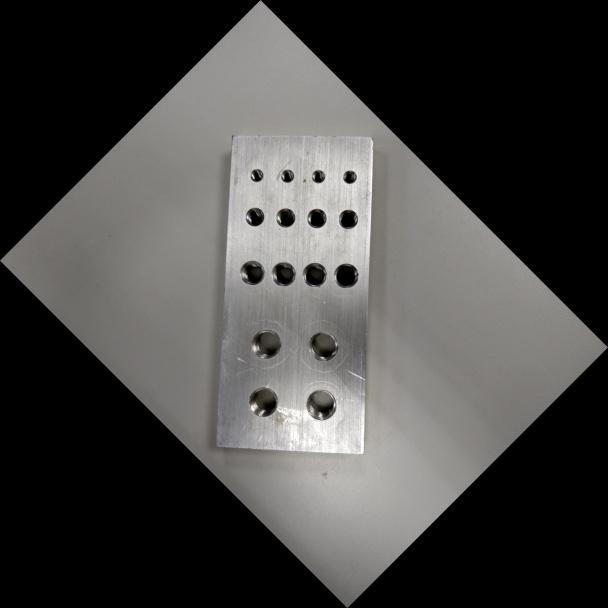hole: (298, 381, 344, 428), (240, 378, 286, 424), (243, 321, 288, 366), (300, 323, 345, 368), (327, 256, 364, 294), (233, 254, 270, 291), (265, 255, 302, 292), (296, 256, 333, 293), (301, 203, 331, 233), (333, 203, 363, 233), (271, 202, 300, 232), (240, 202, 269, 230), (307, 165, 329, 187), (339, 165, 360, 187), (277, 165, 298, 186), (246, 165, 267, 185)
